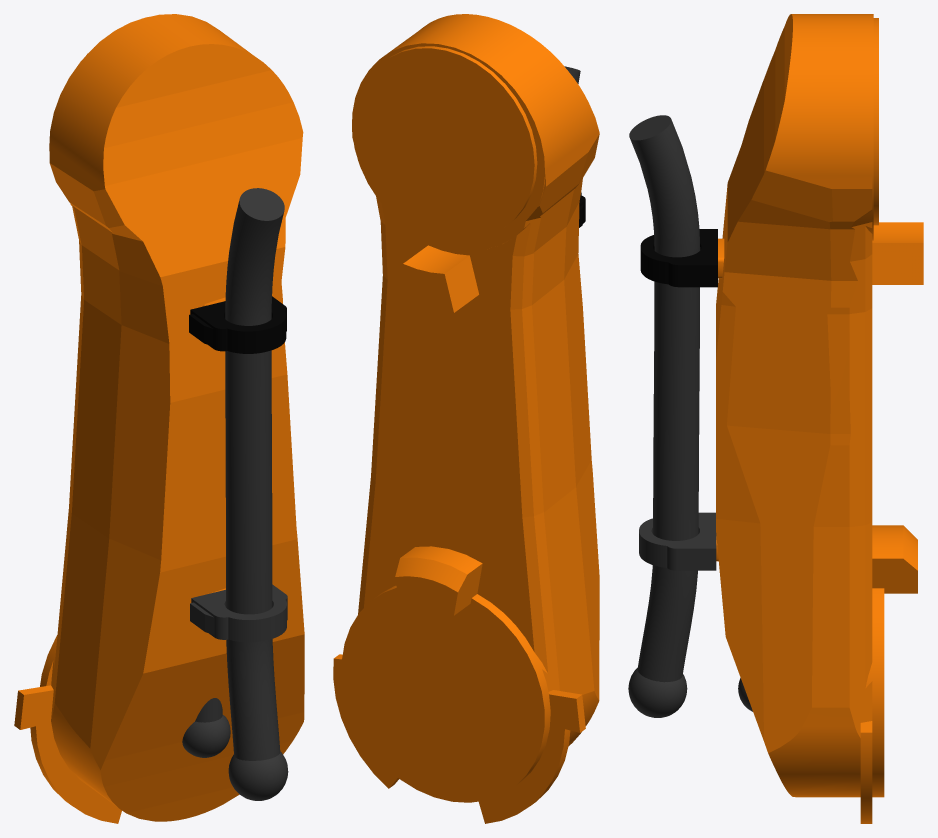
Rendered from kuka_kr_60_2.fbx.
3 renders of one model, left to right at view 1: azimuth 30°, elevation 25°; view 2: azimuth 150°, elevation 25°; view 3: azimuth 270°, elevation 25°, orthographic. The views are drawn at different scales.
Parts seen in each view (by area): view 1: 2; view 2: 2; view 3: 2.
Part boxes in pixels (box(x1,y1,x2,y2)): 2: box(14, 14, 304, 823); 2: box(333, 14, 599, 823); 2: box(628, 14, 923, 823).
Size of the model in its own units: 0.3931 by 1.17 by 0.401.
